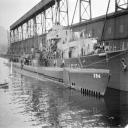submarine: (6, 54, 112, 100)
